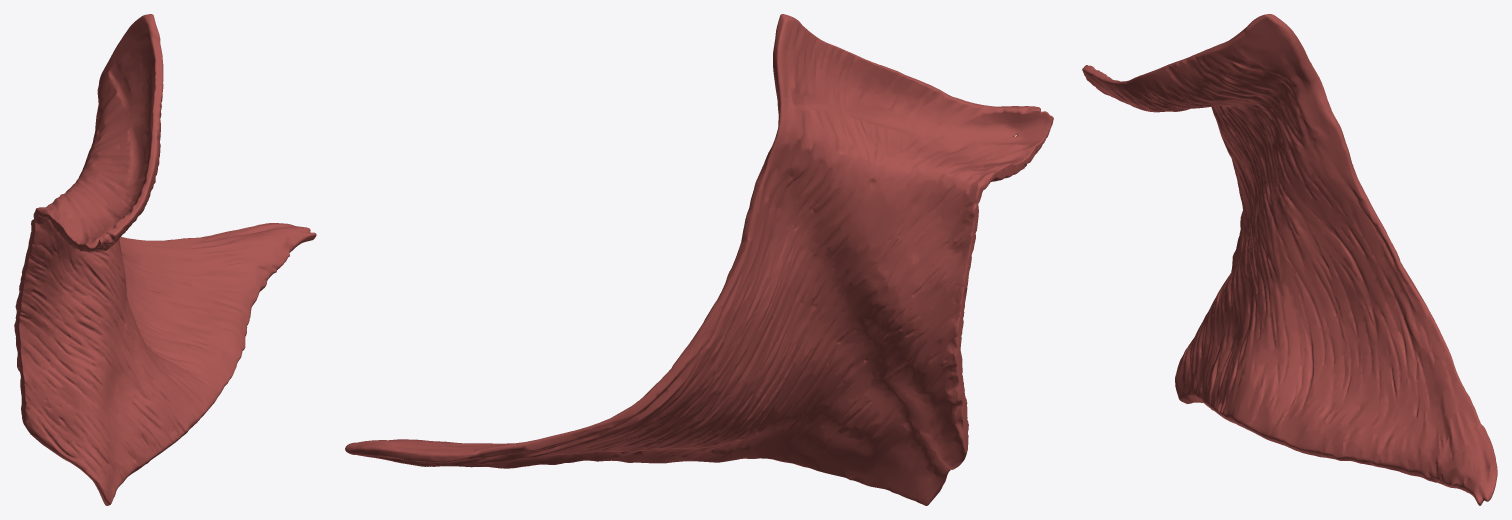
Rendered from FMA45740.glb.
3 renders of one model, left to right at view 1: azimuth 30°, elevation 25°; view 2: azimuth 150°, elevation 25°; view 3: azimuth 270°, elevation 25°, orthographic. The views are drawn at different scales.
Visible parts, largest first — view 1: FMA45740; view 2: FMA45740; view 3: FMA45740.
Part boxes in pixels (x1,y1,x2,y2): FMA45740: (14, 14, 316, 505); FMA45740: (345, 14, 1053, 505); FMA45740: (1082, 14, 1497, 505).
Size of the model in its own units: 0.1366 by 0.1375 by 0.1205.
